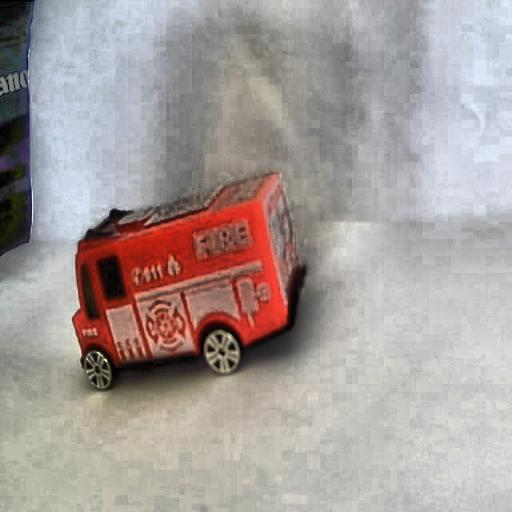fire_truck: (67, 168, 307, 392), (262, 180, 300, 310)
